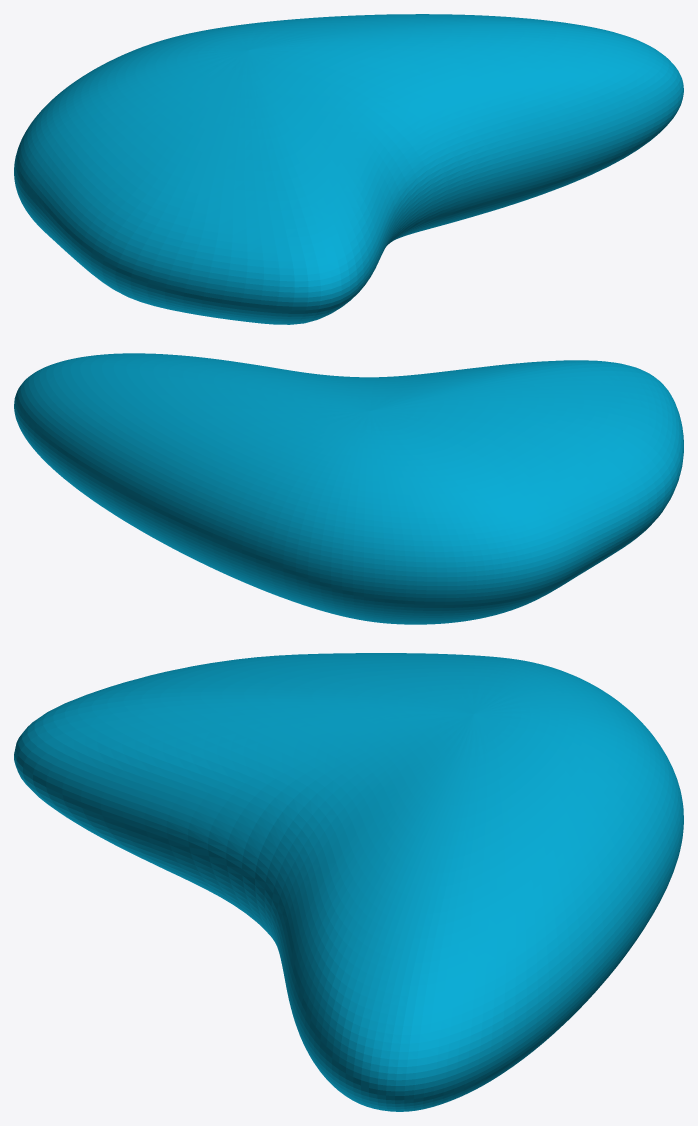
Rendered from vaccuum.dae.
The picture shows the model from 3 angles, top to bottom: view 1: azimuth 30°, elevation 25°; view 2: azimuth 150°, elevation 25°; view 3: azimuth 270°, elevation 25°; orthographic projection. The views are drawn at different scales.
Parts seen in each view (by area): view 1: Sphere_010; view 2: Sphere_010; view 3: Sphere_010.
Part boxes in pixels (left/top/right/bottom): Sphere_010: left=14, top=14, right=683, bottom=324; Sphere_010: left=14, top=353, right=683, bottom=624; Sphere_010: left=14, top=653, right=683, bottom=1111.
Bounding box in the file's own units: 1.89 × 1.41 × 0.5555.
